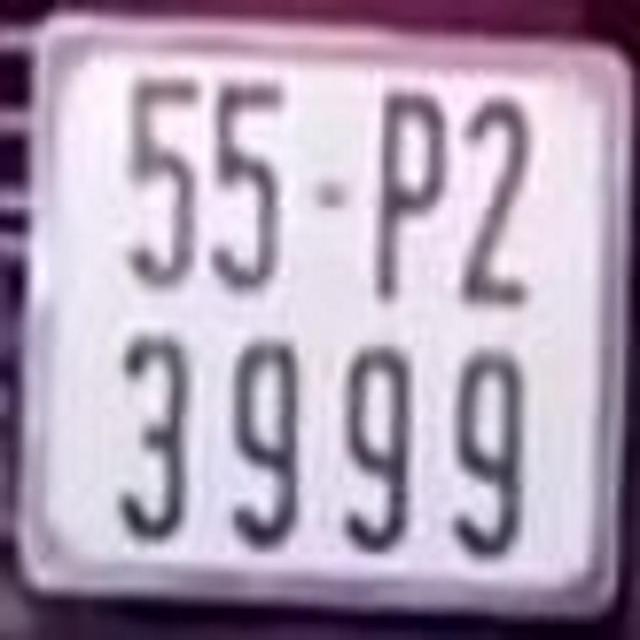2: (461, 90, 538, 304)
3: (116, 334, 190, 540)
5: (212, 82, 286, 287), (128, 81, 196, 282)
9: (234, 336, 304, 549), (454, 348, 522, 550), (348, 350, 411, 548)
P: (374, 91, 448, 304)
